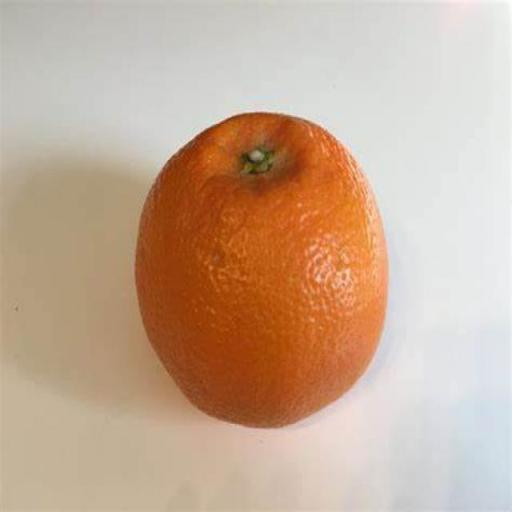fruit: (136, 114, 387, 427)
